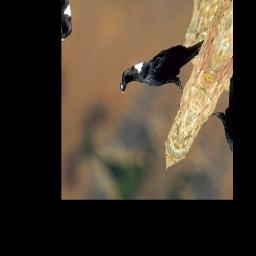Crow: (115, 1, 210, 131)
